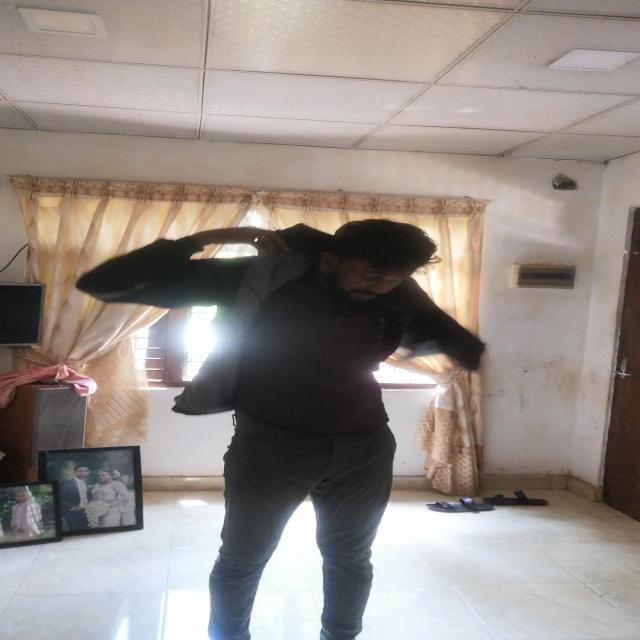Jacket_Wearer: (81, 229, 506, 449)
Person: (94, 198, 488, 640)
